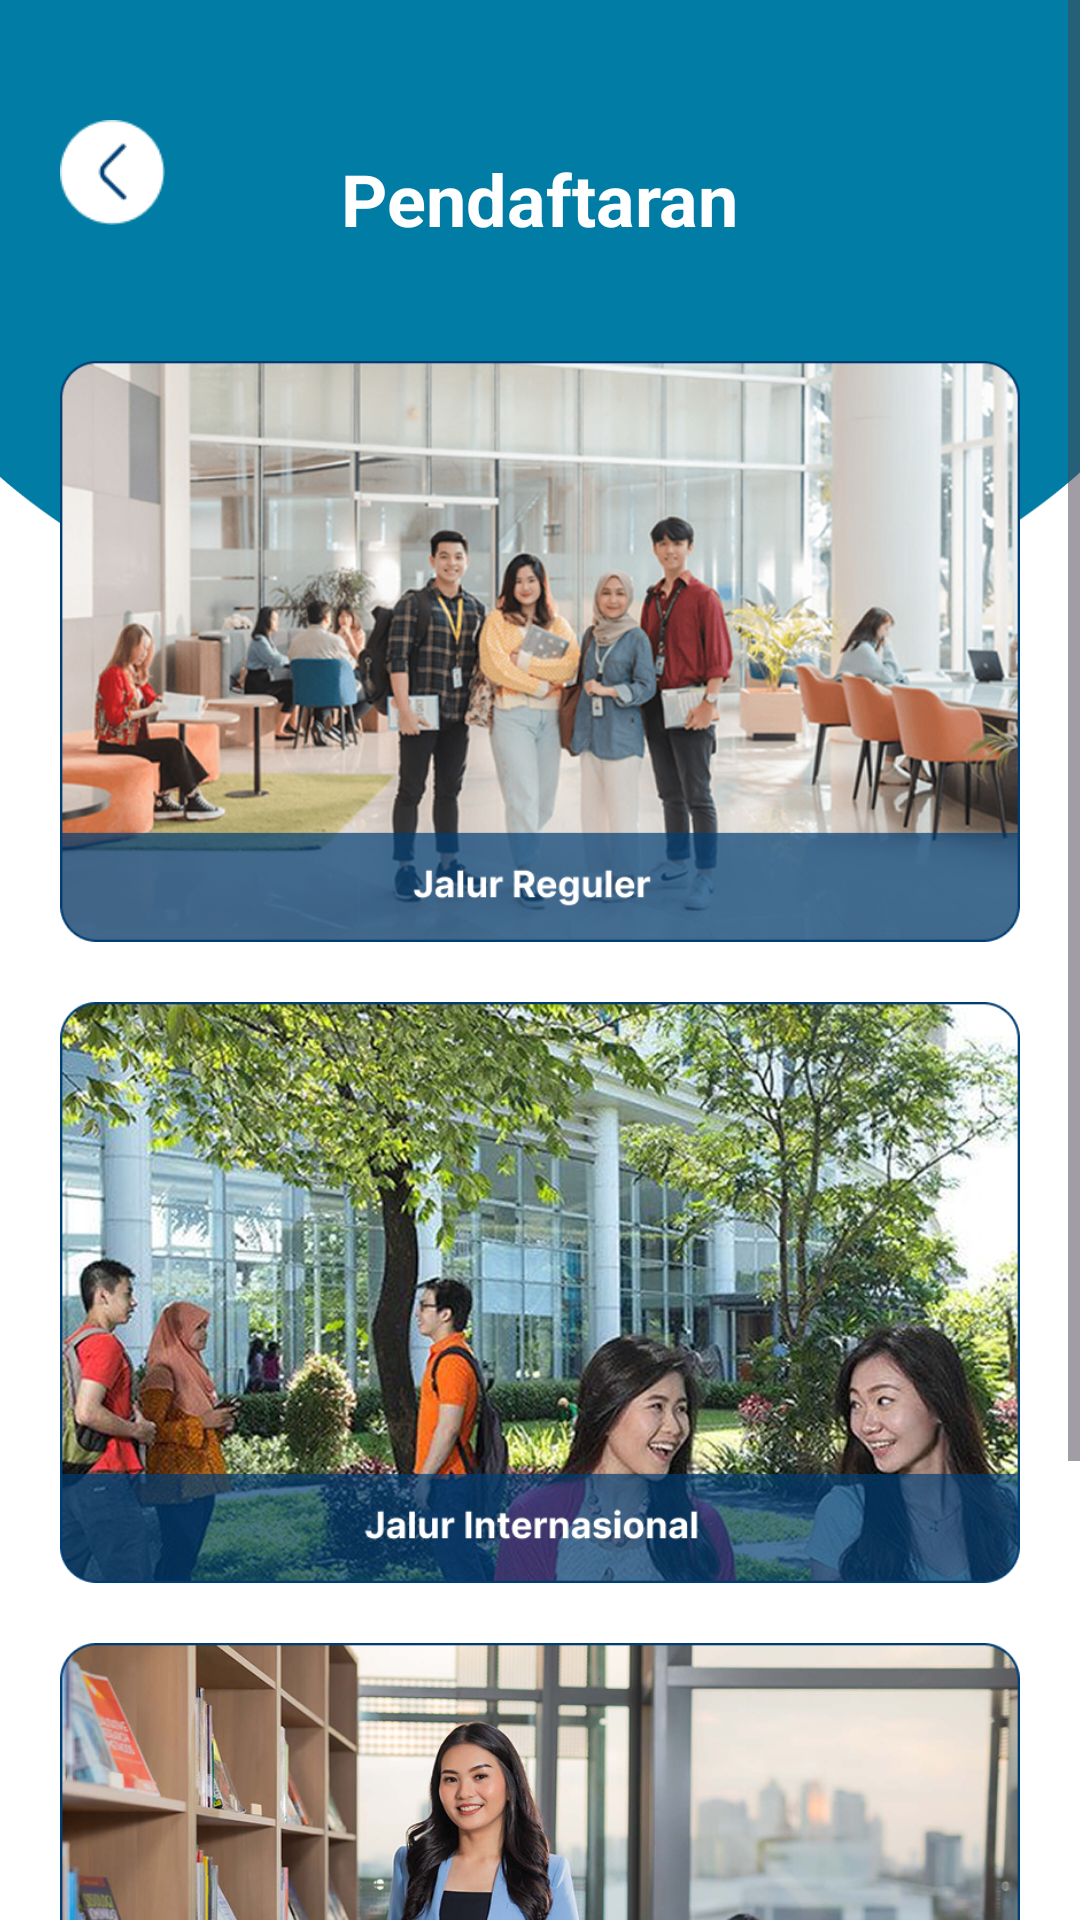

Locate icon controls on the screen. Image size 1080 x 1920, boxes as (x1, y1, x2, y2).
back: (60, 120, 165, 225)
